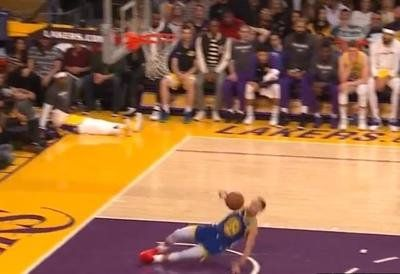10+: (1, 1, 400, 274)
down: (132, 182, 275, 274)
